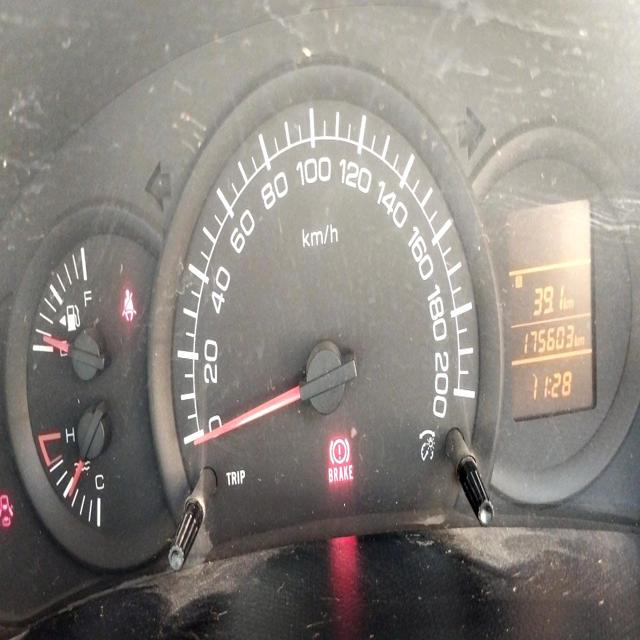odometer: (521, 319, 575, 354)
